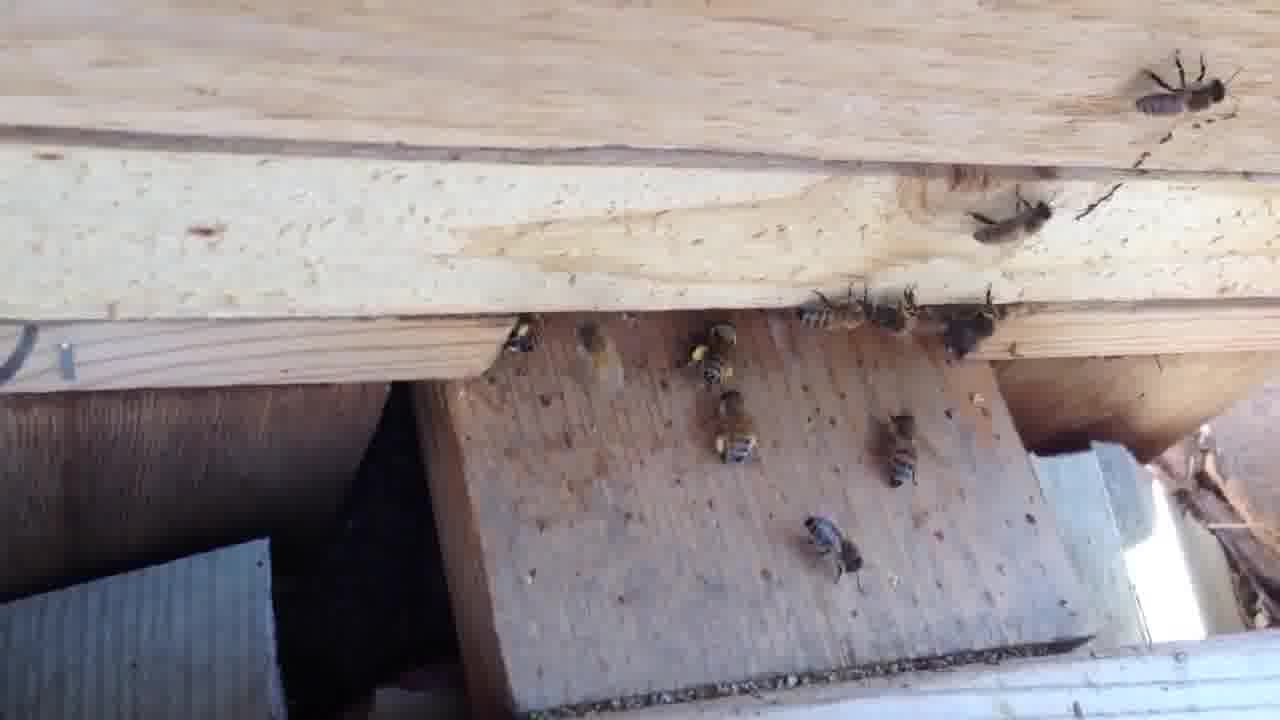pollen: (704, 391, 765, 469), (686, 316, 744, 384)
